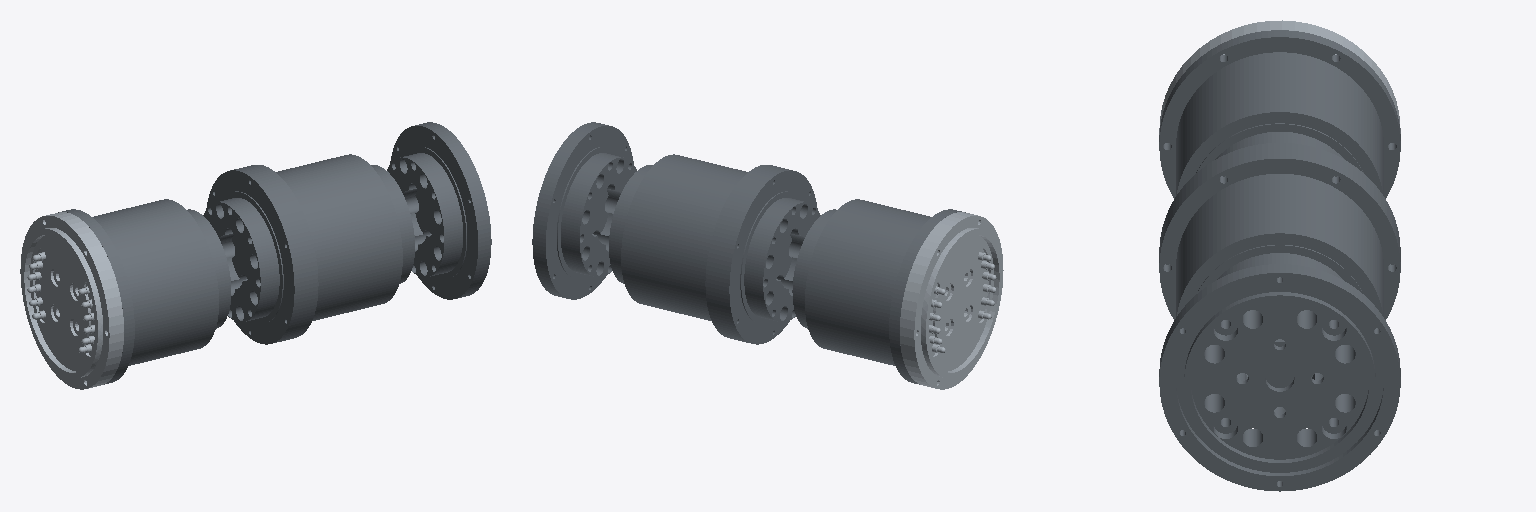
URDF robot description (Robot):
<?xml version="1.0" ?>
<robot name="Robot">
  <!--Generated by RobotCAD, a ROS Workbench for FreeCAD (https://github.com/drfenixion/freecad.robotcad)-->
  <link name="l_cycloid_outter_motor_opposite_side001">
    <visual>
      <!--cycloid_outter_motor_opposite_side001/cycloid_outter_motor_opposite_side001.-->
      <origin rpy="0 -1.5707963267948941 0" xyz="0.0 0.0 0.0"/>
      <geometry>
        <mesh filename="package://asr_sdm_description/meshes/asr_sdm_v1_cycloid_outter_motor_opposite_side.dae"/>
      </geometry>
    </visual>
  </link>
  <link name="l_cycloid_outter_motor_side001">
    <visual>
      <!--cycloid_outter_motor_side001/cycloid_outter_motor_side001.-->
      <origin rpy="0 1.5707963267948963 0" xyz="-0.025 0.0 0.0"/>
      <geometry>
        <mesh filename="package://asr_sdm_description/meshes/asr_sdm_v1_cycloid_outter_motor_side.dae"/>
      </geometry>
    </visual>
  </link>
  <link name="l_screw_rotor_left004">
    <visual>
      <!--screw_rotor_left004/screw_rotor_left005.-->
      <origin rpy="0 -1.570796326794896 0" xyz="-0.0125 0.0 0.0"/>
      <geometry>
        <mesh filename="package://asr_sdm_description/meshes/asr_sdm_v1_screw_rotor_left003.dae"/>
      </geometry>
    </visual>
  </link>
  <link name="l_motor_bottom_disk_assemble001">
    <visual>
      <!--motor_bottom_disk_assemble001/motor_bottom_disk_assemble002.-->
      <origin rpy="0 1.5707963267948963 0" xyz="-0.138 0.0 0.0"/>
      <geometry>
        <mesh filename="package://asr_sdm_description/meshes/asr_sdm_v1_motor_bottom_disk_assemble.dae"/>
      </geometry>
    </visual>
  </link>
  <link name="l_screw_rotor_right001">
    <visual>
      <!--screw_rotor_right001/screw_rotor_right002.-->
      <origin rpy="0 1.5707963267948948 0" xyz="-0.0815 0.0 0.0"/>
      <geometry>
        <mesh filename="package://asr_sdm_description/meshes/asr_sdm_v1_screw_rotor_right.dae"/>
      </geometry>
    </visual>
  </link>
  <link name="l_cycloid_outter_motor_opposite_side003">
    <visual>
      <!--cycloid_outter_motor_opposite_side003/cycloid_outter_motor_opposite_side003.-->
      <origin rpy="0 -1.5707963267948963 0" xyz="-0.069 0.0 0.0"/>
      <geometry>
        <mesh filename="package://asr_sdm_description/meshes/asr_sdm_v1_cycloid_outter_motor_opposite_side.dae"/>
      </geometry>
    </visual>
  </link>
  <link name="l_cycloid_outter_motor_side003">
    <visual>
      <!--cycloid_outter_motor_side003/cycloid_outter_motor_side003.-->
      <origin rpy="0 1.5707963267948963 0" xyz="-0.094 0.0 0.0"/>
      <geometry>
        <mesh filename="package://asr_sdm_description/meshes/asr_sdm_v1_cycloid_outter_motor_side.dae"/>
      </geometry>
    </visual>
  </link>
  <joint name="l_cycloid_outter_motor_opposite_side001__to__l_screw_rotor_left004" type="continuous">
    <parent link="l_cycloid_outter_motor_opposite_side001"/>
    <child link="l_screw_rotor_left004"/>
    <origin rpy="0 0 0" xyz="0.0 0.0 0.0"/>
    <axis xyz="1 0 0"/>
  </joint>
  <joint name="l_cycloid_outter_motor_opposite_side001__to__l_cycloid_outter_motor_side001" type="fixed">
    <parent link="l_cycloid_outter_motor_opposite_side001"/>
    <child link="l_cycloid_outter_motor_side001"/>
    <origin rpy="0 0 0" xyz="0.0 0.0 0.0"/>
  </joint>
  <joint name="l_cycloid_outter_motor_opposite_side001__to__l_motor_bottom_disk_assemble001" type="fixed">
    <parent link="l_cycloid_outter_motor_opposite_side001"/>
    <child link="l_motor_bottom_disk_assemble001"/>
    <origin rpy="0 0 0" xyz="0.0 0.0 0.0"/>
  </joint>
  <joint name="l_cycloid_outter_motor_opposite_side001__to__l_cycloid_outter_motor_opposite_side003" type="fixed">
    <parent link="l_cycloid_outter_motor_opposite_side001"/>
    <child link="l_cycloid_outter_motor_opposite_side003"/>
    <origin rpy="0 0 0" xyz="0.0 0.0 0.0"/>
  </joint>
  <joint name="l_cycloid_outter_motor_opposite_side003__to__l_screw_rotor_right001" type="continuous">
    <parent link="l_cycloid_outter_motor_opposite_side003"/>
    <child link="l_screw_rotor_right001"/>
    <origin rpy="0 0 0" xyz="0.0 0.0 0.0"/>
    <axis xyz="1 0 0"/>
  </joint>
  <joint name="l_cycloid_outter_motor_opposite_side003__to__l_cycloid_outter_motor_side003" type="fixed">
    <parent link="l_cycloid_outter_motor_opposite_side003"/>
    <child link="l_cycloid_outter_motor_side003"/>
    <origin rpy="0 0 0" xyz="0.0 0.0 0.0"/>
  </joint>
</robot>

--- Facts derived from the render (not from the file) ---
3 views of the same robot in one strip: view 1: azimuth 30°, elevation 25°; view 2: azimuth 150°, elevation 25°; view 3: azimuth 270°, elevation 25° (orthographic).
Model Robot with 7 links and 6 joints (2 continuous, 4 fixed), rooted at l_cycloid_outter_motor_opposite_side001, posed all joints at 0.
Links seen in each view (by area): view 1: l_cycloid_outter_motor_side003, l_cycloid_outter_motor_side001, l_motor_bottom_disk_assemble001, l_cycloid_outter_motor_opposite_side003, l_cycloid_outter_motor_opposite_side001; view 2: l_cycloid_outter_motor_side003, l_cycloid_outter_motor_side001, l_motor_bottom_disk_assemble001, l_cycloid_outter_motor_opposite_side003, l_cycloid_outter_motor_opposite_side001; view 3: l_cycloid_outter_motor_opposite_side001, l_cycloid_outter_motor_side003, l_cycloid_outter_motor_side001, l_motor_bottom_disk_assemble001, l_cycloid_outter_motor_opposite_side003.
Boxes of the visible links, box(x1,y1,x2,y2) form: l_cycloid_outter_motor_side003: box(58, 199, 230, 384); l_cycloid_outter_motor_side001: box(247, 154, 414, 340); l_motor_bottom_disk_assemble001: box(20, 212, 123, 389); l_cycloid_outter_motor_opposite_side003: box(203, 167, 307, 344); l_cycloid_outter_motor_opposite_side001: box(387, 122, 491, 299); l_cycloid_outter_motor_side003: box(792, 199, 965, 384); l_cycloid_outter_motor_side001: box(609, 154, 776, 340); l_motor_bottom_disk_assemble001: box(900, 212, 1003, 389); l_cycloid_outter_motor_opposite_side003: box(716, 167, 820, 344); l_cycloid_outter_motor_opposite_side001: box(532, 122, 636, 299); l_cycloid_outter_motor_opposite_side001: box(1159, 264, 1400, 491); l_cycloid_outter_motor_side003: box(1159, 30, 1400, 198); l_cycloid_outter_motor_side001: box(1159, 151, 1400, 376); l_motor_bottom_disk_assemble001: box(1159, 20, 1400, 134); l_cycloid_outter_motor_opposite_side003: box(1159, 143, 1400, 346).
Bounding box of the posed robot: 0.147 × 0.058 × 0.058 m (x, y, z).
Meshes: 5 distinct files referenced, 5 mesh visuals loaded (3 Collada DAE); not drawn: 2 (reference not matched to a file when rendering).
